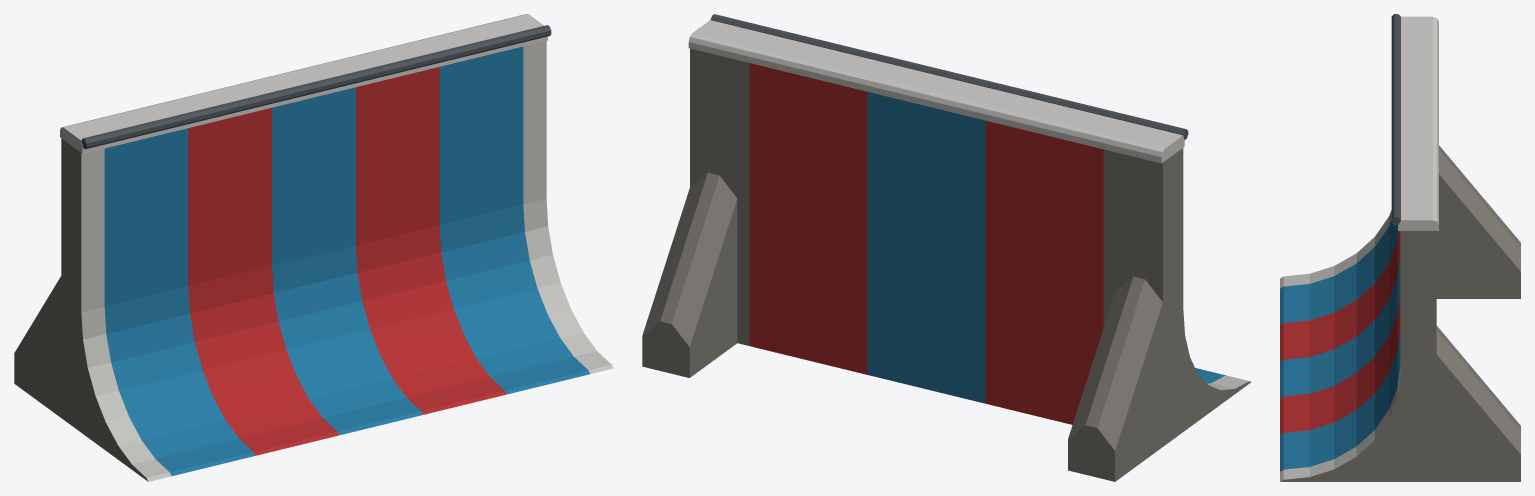
Rendered from wallride-wall-ae0128.glb.
3 renders of one model, left to right at view 1: azimuth 30°, elevation 25°; view 2: azimuth 150°, elevation 25°; view 3: azimuth 270°, elevation 25°, orthographic. The views are drawn at different scales.
Visible parts, largest first — view 1: wall; view 2: wall; view 3: wall.
Boxes of the visible parts, x1=… form: wall: x1=14, y1=14, x2=613, y2=481; wall: x1=642, y1=14, x2=1251, y2=481; wall: x1=1280, y1=14, x2=1520, y2=481.
Size of the model in its own units: 4 by 2.43 by 2.
